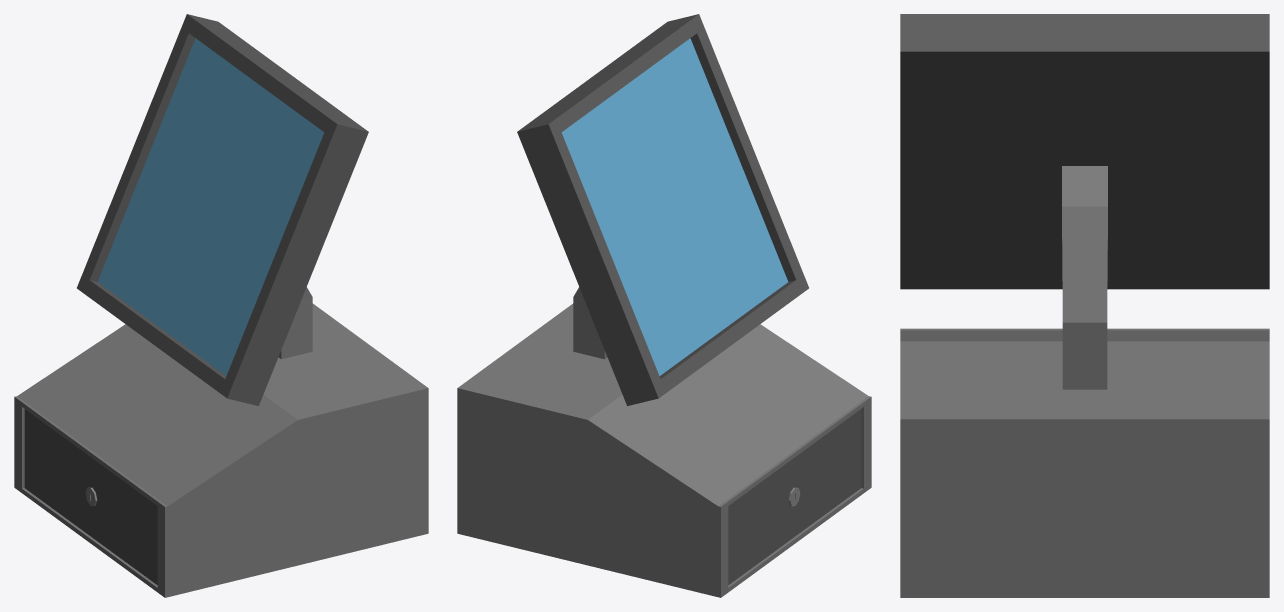
File: Register.fbx
The picture shows the model from 3 angles, left to right: view 1: azimuth 30°, elevation 25°; view 2: azimuth 150°, elevation 25°; view 3: azimuth 270°, elevation 25°; orthographic projection. The views are drawn at different scales.
Visible parts, largest first — view 1: Register, Register Draw; view 2: Register, Register Draw; view 3: Register.
Part boxes in pixels (x1,y1,x2,y2): Register: (14,14,428,597); Register Draw: (24,409,157,584); Register: (457,14,871,597); Register Draw: (728,409,861,584); Register: (900,14,1269,597).
Bounding box in the file's own units: 303 × 474 × 300.
